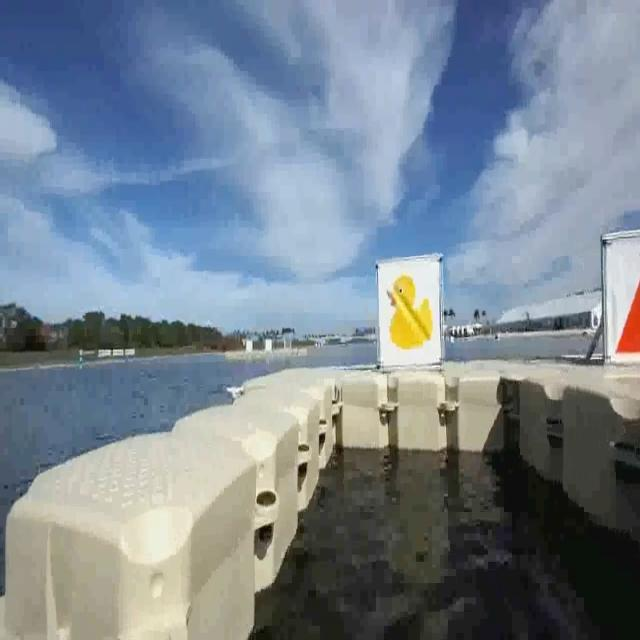red-dot: (605, 247, 640, 360)
yellow-duck: (389, 272, 435, 350)
